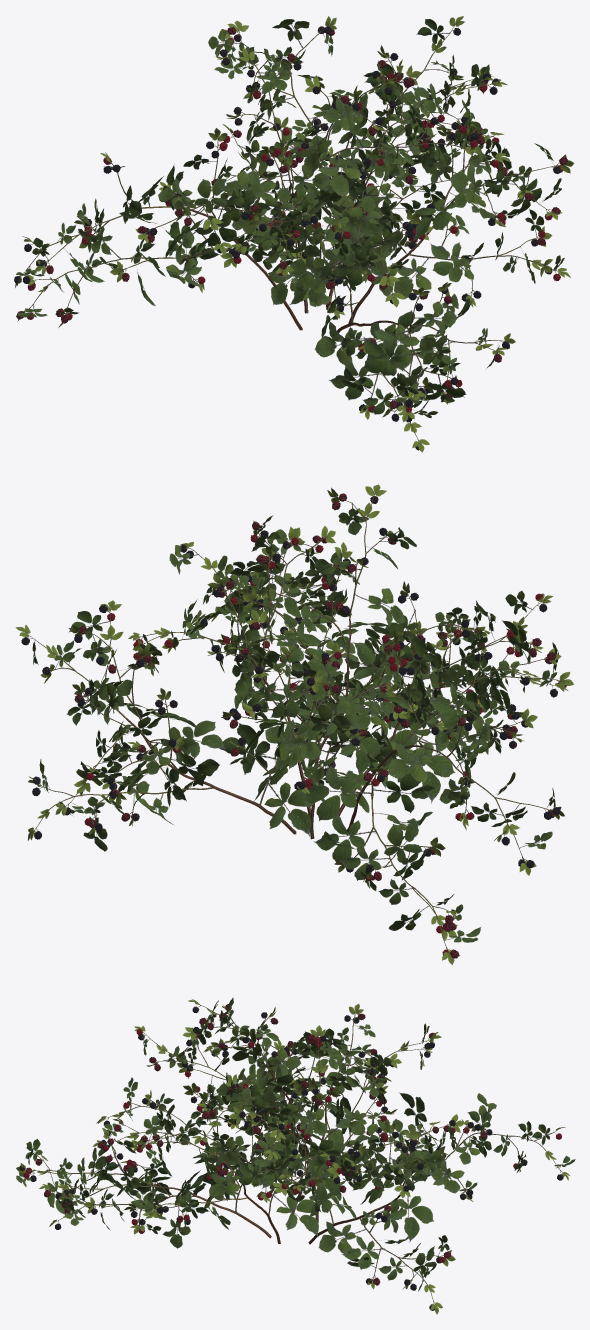
Rendered from blackberry_02.glb.
The picture shows the model from 3 angles, top to bottom: view 1: azimuth 30°, elevation 25°; view 2: azimuth 150°, elevation 25°; view 3: azimuth 270°, elevation 25°; orthographic projection. The views are drawn at different scales.
Parts seen in each view (by area): view 1: 3DTree_Rubus fruticosus_02; view 2: 3DTree_Rubus fruticosus_02; view 3: 3DTree_Rubus fruticosus_02.
Boxes of the visible parts, bbox=[...] form: 3DTree_Rubus fruticosus_02: bbox=[14, 16, 574, 452]; 3DTree_Rubus fruticosus_02: bbox=[15, 484, 573, 964]; 3DTree_Rubus fruticosus_02: bbox=[16, 997, 575, 1314].
Size of the model in its own units: 1.09 by 0.6558 by 1.31.
6 materials, 3 textured.
